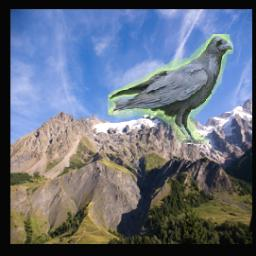Crow: (109, 34, 234, 144)
